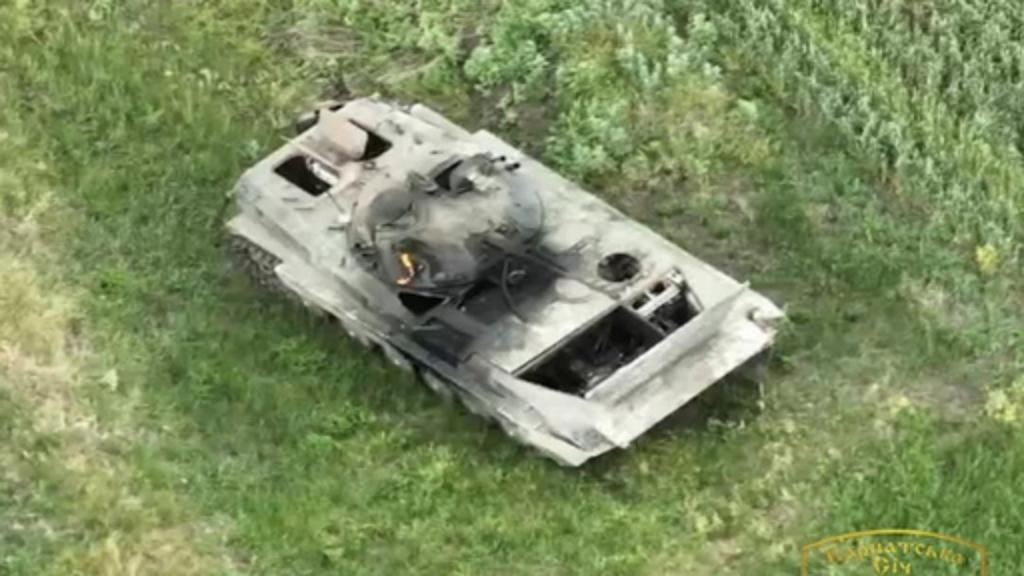APC-IFV: (220, 76, 788, 484)
